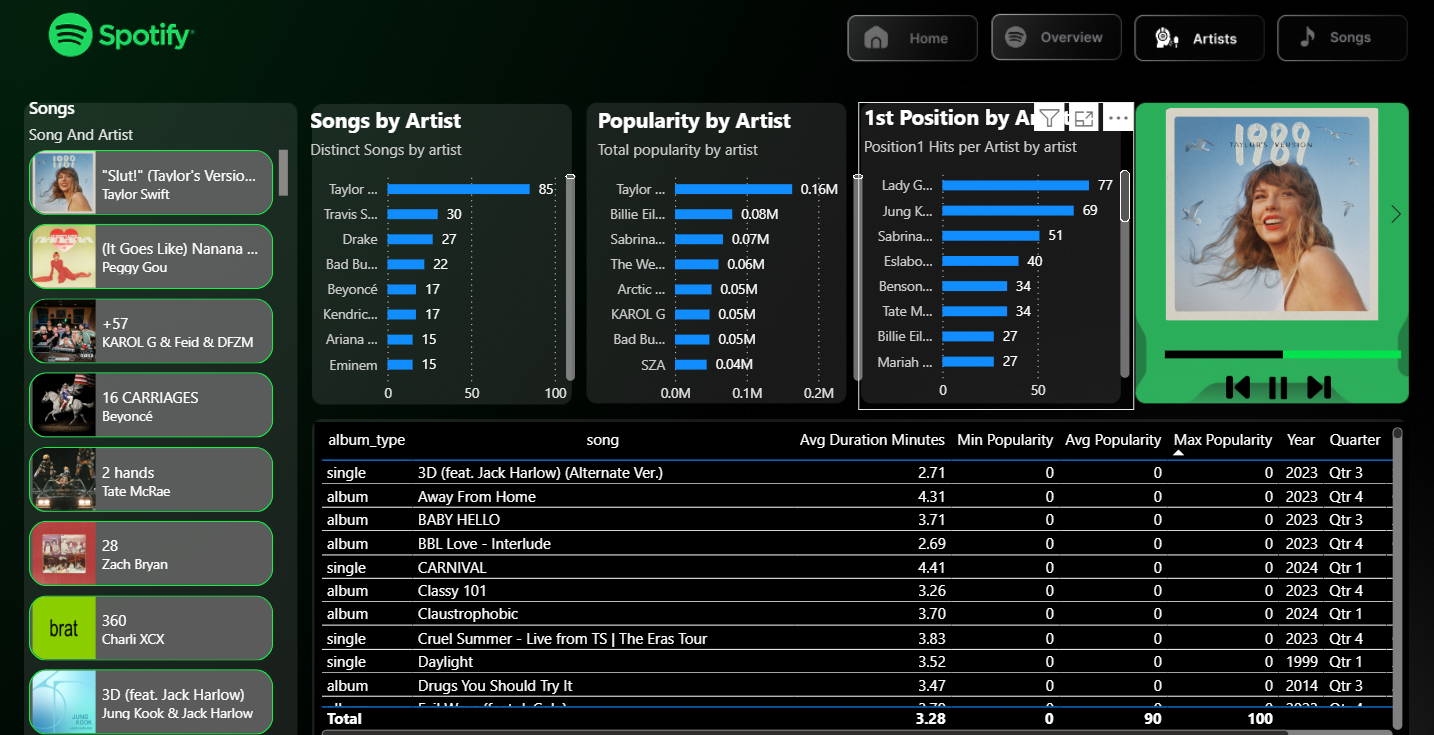

Layout of this report page (visuals, bound fields, positions):
{"tool":"powerbi","page":{"name":"Artist","canvas":[1280,720],"ordinal":2},"visuals":[{"type":"actionButton","box":[757.2,32,116.2,40],"z":0},{"type":"actionButton","box":[1007.2,32,116.2,40],"z":1000},{"type":"actionButton","box":[1138.5,32,116.2,40],"z":2000},{"type":"actionButton","box":[884.7,32,111.2,40],"z":3000},{"type":"advancedSlicerVisual","title":"Songs","fields":{"Values":["Top-50-World.song"]},"box":[1007.5,110,251.2,201.2],"z":4000},{"type":"hundredPercentStackedBarChart","fields":{"Y":["_Measure.Avg Popularity","Avg(Top-50-World.popularity)"]},"box":[1033.3,300.2,220,65],"z":5000},{"type":"image","box":[1163.8,352.2,23.8,25],"z":6000},{"type":"image","box":[1091.3,352.2,23.8,25],"z":7000},{"type":"image","box":[1114.5,347.7,48.8,35],"z":8000},{"type":"shape","box":[1011.2,111.2,255,271.2],"z":9000},{"type":"advancedSlicerVisual","title":"Songs","fields":{"Values":["Top-50-World.song"]},"box":[23.8,105,240,580],"z":10000},{"type":"tableEx","fields":{"Values":["Top-50-World.album_type","Top-50-World.song","_Measure.Avg Duration Minutes","_Measure.Min Popularity","_Measure.Avg Popularity","_Measure.Max Popularity","Top-50-World.release_date.Variation.Date Hierarchy.Year","Top-50-World.release_date.Variation.Date Hierarchy.Quarter","Top-50-World.release_date.Variation.Date Hierarchy.Month","Top-50-World.release_date.Variation.Date Hierarchy.Day"]},"box":[282.5,395,972.5,287.5],"z":11000},{"type":"clusteredBarChart","title":"Songs by Artist","fields":{"Y":["_Measure.Distinct Songs"],"Category":["Top-50-World.artist"]},"box":[273.8,114.3,245.6,273.1],"z":12000},{"type":"clusteredBarChart","title":"Popularity by Artist","fields":{"Y":["Sum(Top-50-World.popularity)"],"Category":["Top-50-World.artist"]},"box":[529,114.3,245.6,273.1],"z":13000},{"type":"clusteredBarChart","title":"1st Position by Artist","fields":{"Category":["Top-50-World.artist"],"Y":["_Measure.Position1 Hits per Artist"]},"box":[765,111.2,246.2,273.8],"z":14000}]}

Visuals, with their boxes on the page's 1280x720 design canvas (x1, y1, x2, y2). These are canvas units, not pixel positions in the 1434x735 screenshot, which may show the page scaled, cropped or inside an application window:
actionButton: region(757, 32, 873, 72)
actionButton: region(1007, 32, 1123, 72)
actionButton: region(1138, 32, 1255, 72)
actionButton: region(885, 32, 996, 72)
"Songs" advancedSlicerVisual: region(1008, 110, 1259, 311)
hundredPercentStackedBarChart - _Measure.Avg Popularity x Avg(Top-50-World.popularity): region(1033, 300, 1253, 365)
image: region(1164, 352, 1188, 377)
image: region(1091, 352, 1115, 377)
image: region(1114, 348, 1163, 383)
shape: region(1011, 111, 1266, 382)
"Songs" advancedSlicerVisual: region(24, 105, 264, 685)
tableEx - Top-50-World.album_type x Top-50-World.song: region(282, 395, 1255, 682)
"Songs by Artist" clusteredBarChart: region(274, 114, 519, 387)
"Popularity by Artist" clusteredBarChart: region(529, 114, 775, 387)
"1st Position by Artist" clusteredBarChart: region(765, 111, 1011, 385)
